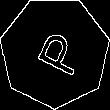P_NW: (25, 24, 85, 80)
